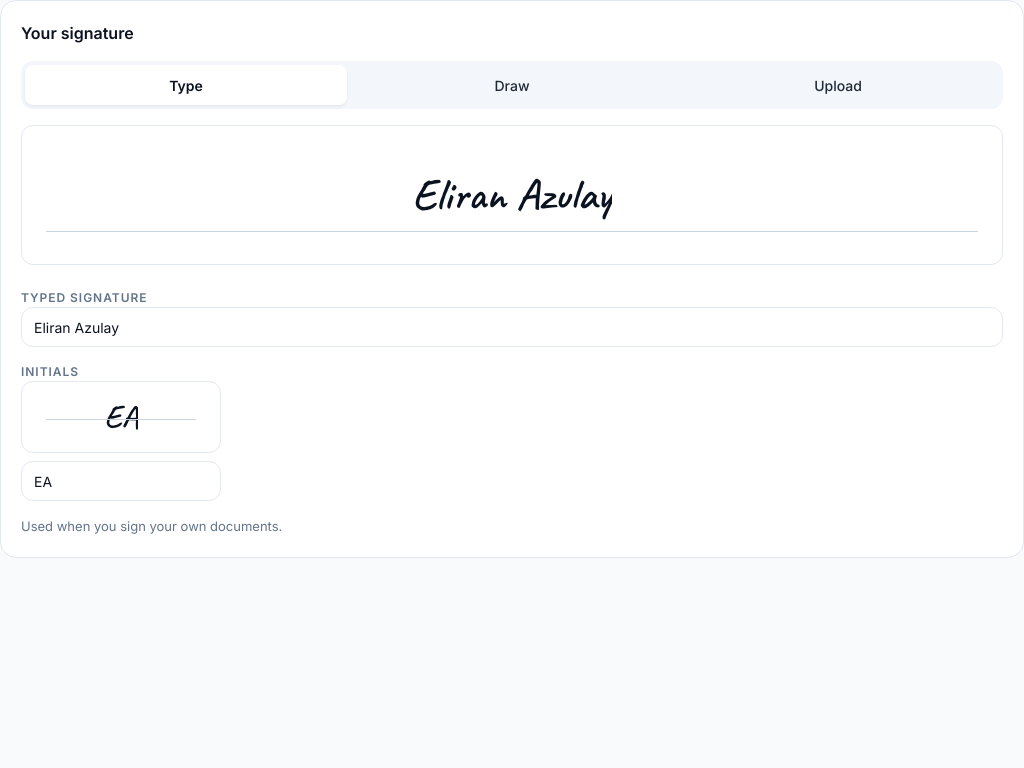
Test case: SignatureSection › Cancel drops the edits
Step 1. Type "x" into the field labelled "Typed signature" → point(512, 327), box [21,307,1003,347]
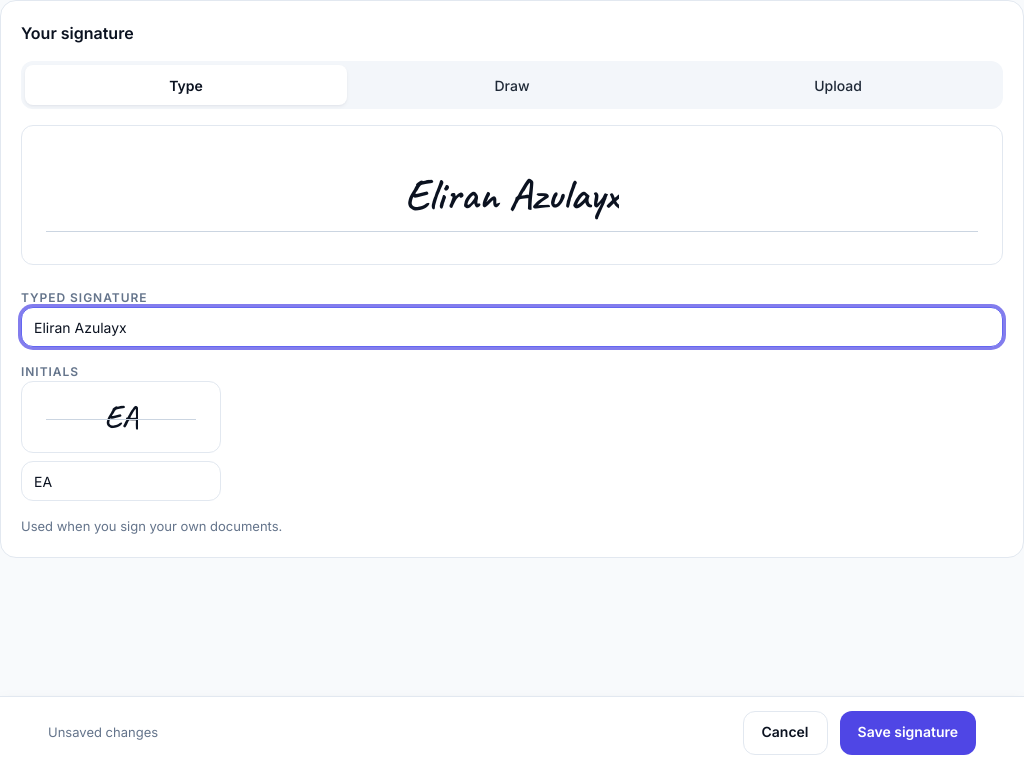
Step 2. Click the button "Cancel" → point(785, 732), box [742,710,828,754]
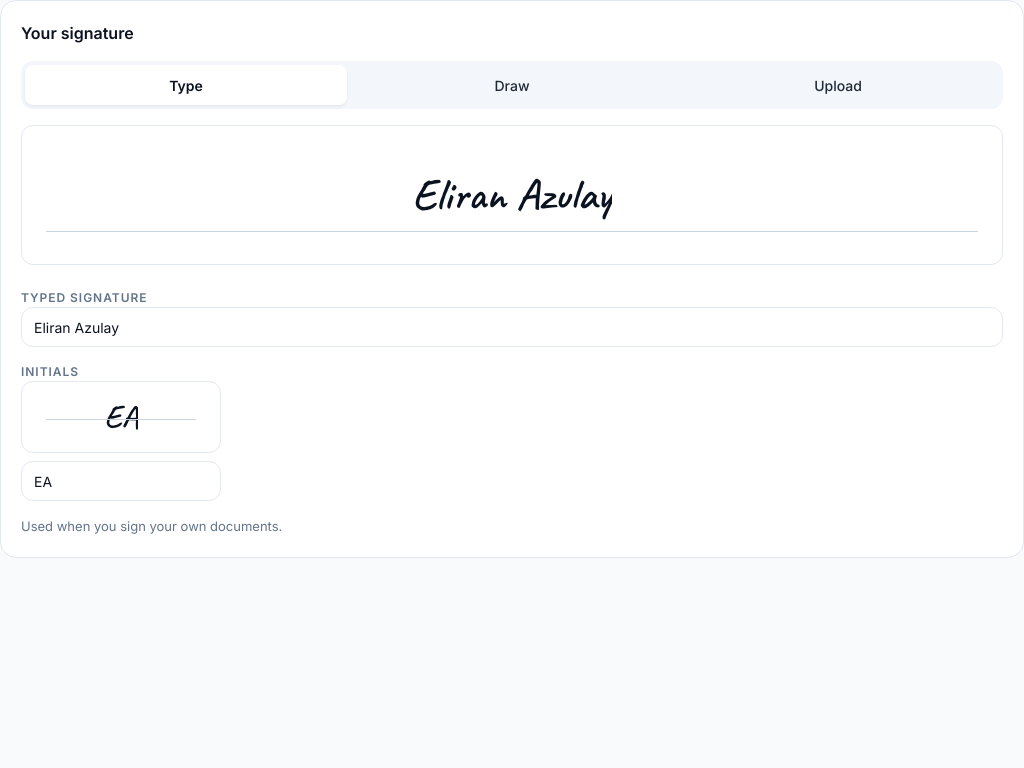
Check: the field labelled "Typed signature" holds "Eliran Azulay", box [21,307,1003,347]
